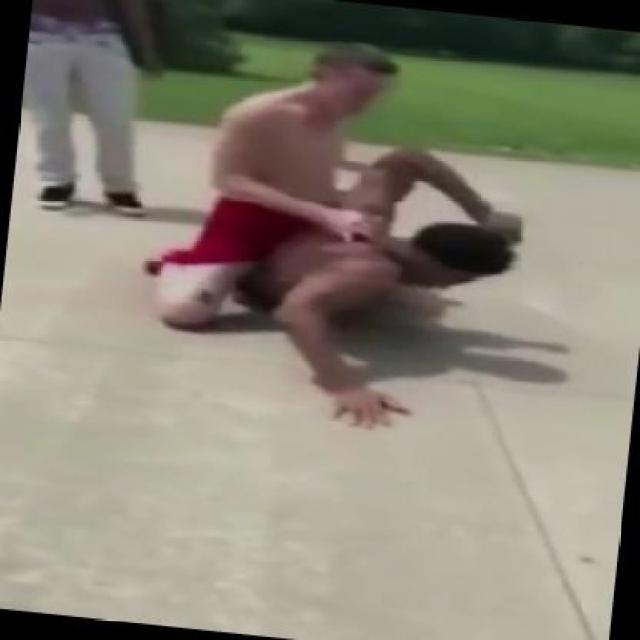fight: (100, 1, 588, 454)
